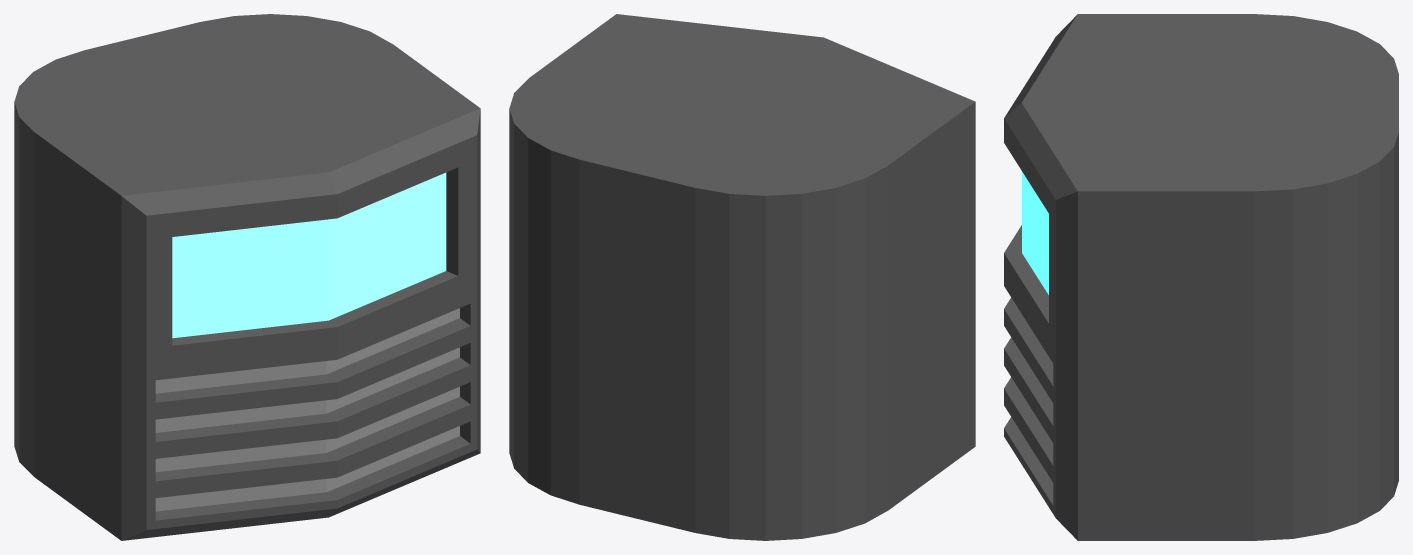
Rendered from SM_TubinatorPickup.fbx.
The picture shows the model from 3 angles, left to right: view 1: azimuth 30°, elevation 25°; view 2: azimuth 150°, elevation 25°; view 3: azimuth 270°, elevation 25°; orthographic projection.
Parts seen in each view (by area): view 1: SM_TubinatorFilterPickup; view 2: SM_TubinatorFilterPickup; view 3: SM_TubinatorFilterPickup.
Boxes of the visible parts, bbox=[...] form: SM_TubinatorFilterPickup: bbox=[14, 14, 480, 540]; SM_TubinatorFilterPickup: bbox=[509, 14, 975, 540]; SM_TubinatorFilterPickup: bbox=[1004, 14, 1398, 540].
Size of the model in its own units: 44.54 by 40.91 by 41.89.
